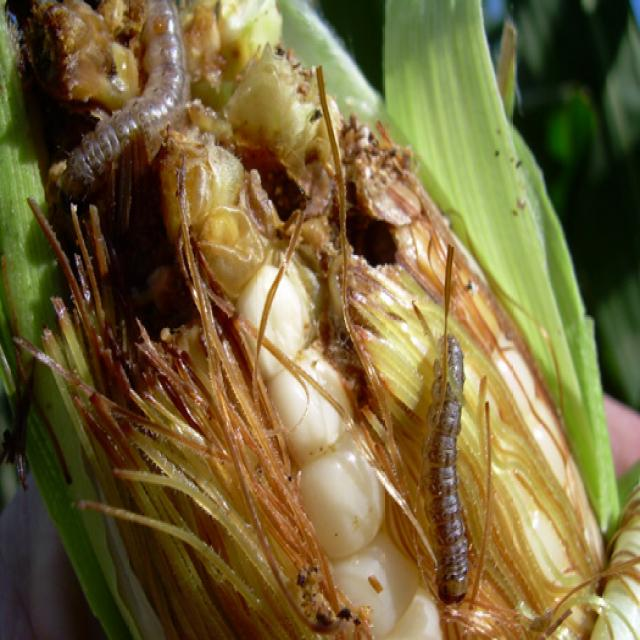cornborer-Larva-: (406, 319, 499, 612)
